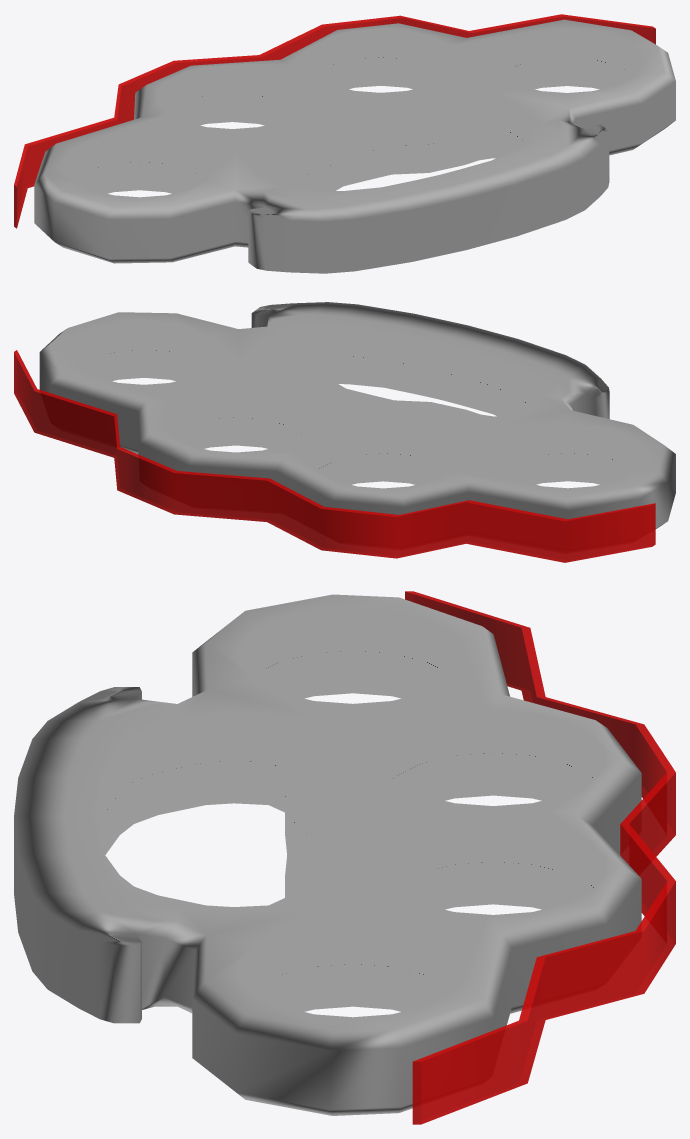
File: LightKnuckles.fbx
The picture shows the model from 3 angles, top to bottom: view 1: azimuth 30°, elevation 25°; view 2: azimuth 150°, elevation 25°; view 3: azimuth 270°, elevation 25°; orthographic projection. The views are drawn at different scales.
Visible parts, largest first — view 1: Box01, pCube1; view 2: Box01, pCube1; view 3: Box01, pCube1.
Part boxes in pixels (bbox=[...]): Box01: bbox=[34, 19, 675, 273]; pCube1: bbox=[14, 14, 655, 228]; Box01: bbox=[39, 302, 675, 529]; pCube1: bbox=[14, 350, 655, 562]; Box01: bbox=[14, 594, 641, 1115]; pCube1: bbox=[405, 591, 675, 1124].
Bounding box in the file's own units: 126 × 10.66 × 74.72.
